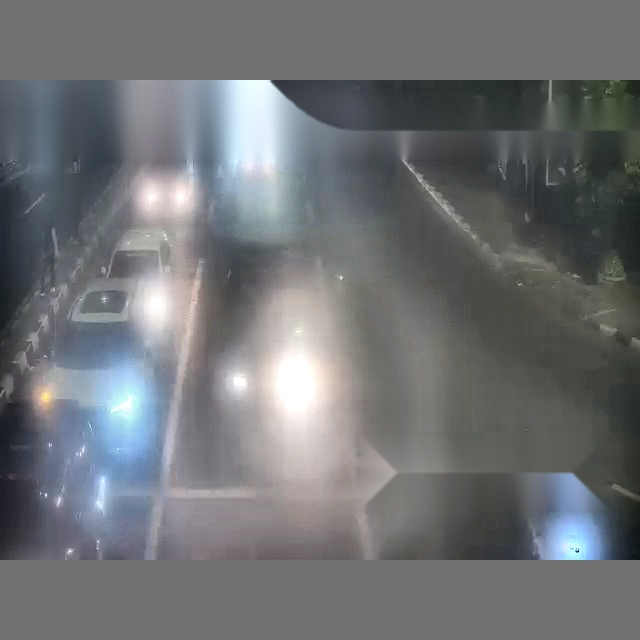Mobil: (104, 227, 172, 348)
